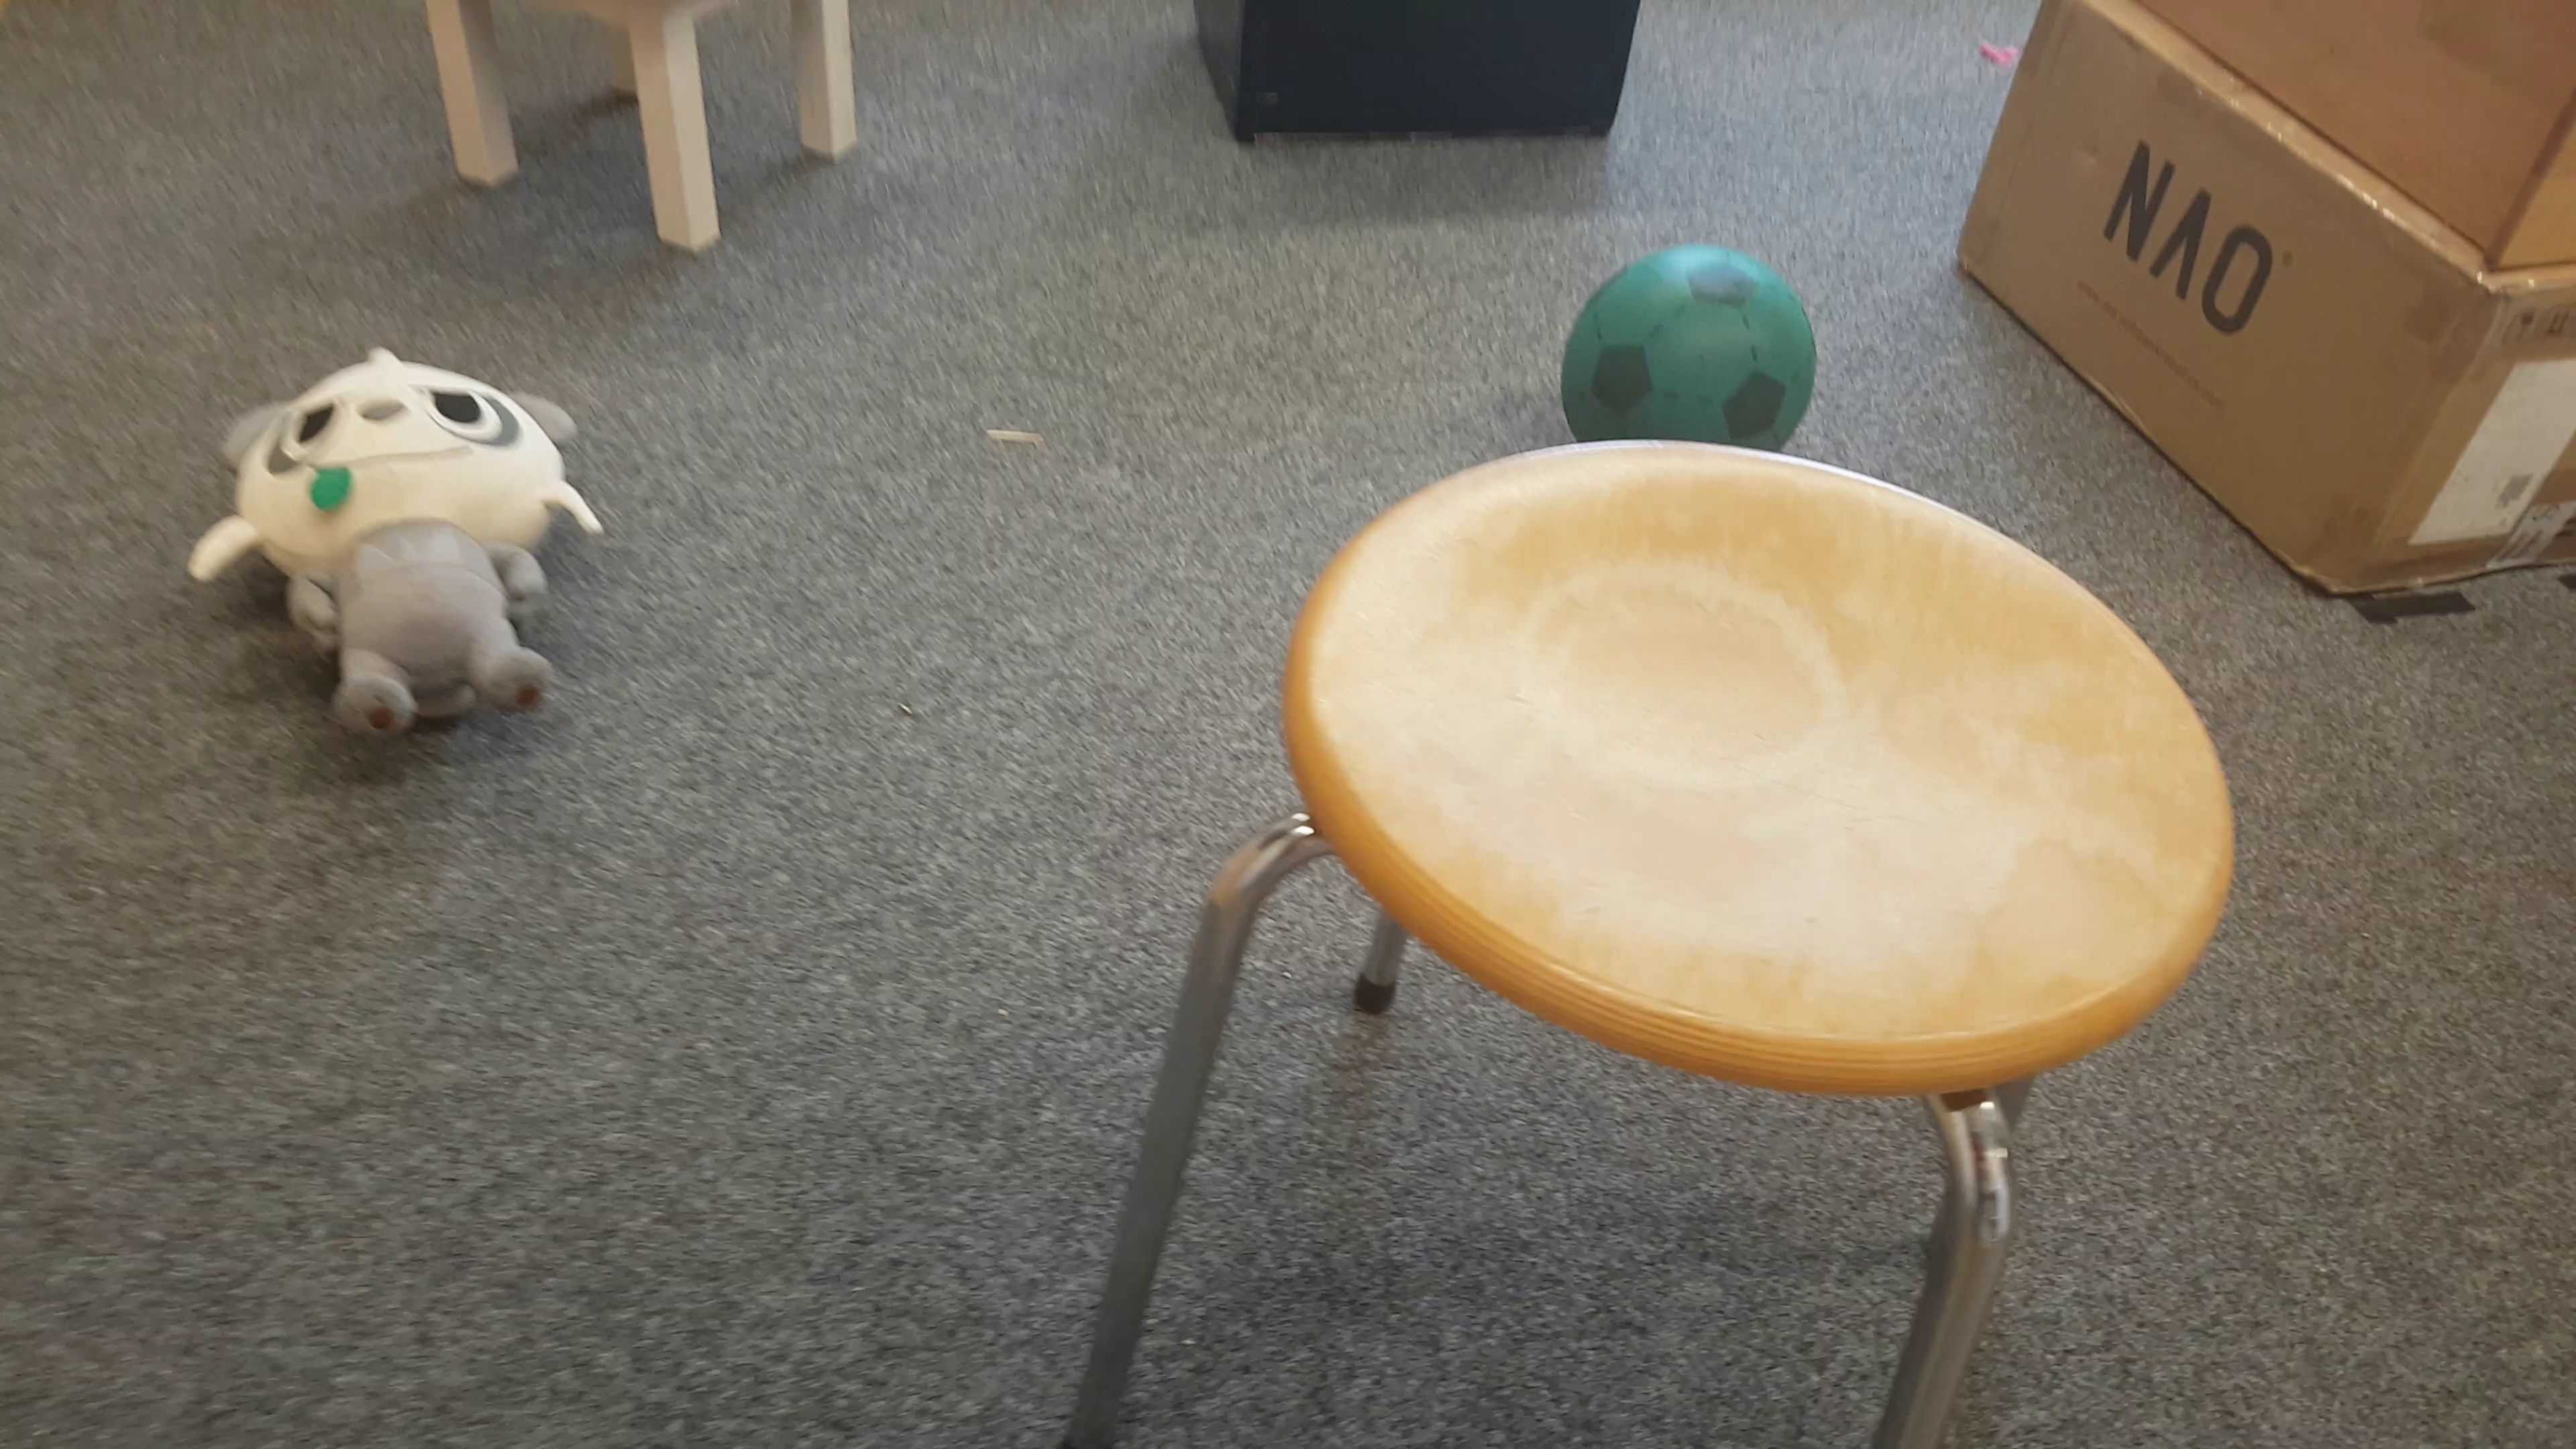grasp: (191, 345, 607, 731)
kick: (1560, 248, 1822, 442)
push: (1192, 0, 1638, 149)
